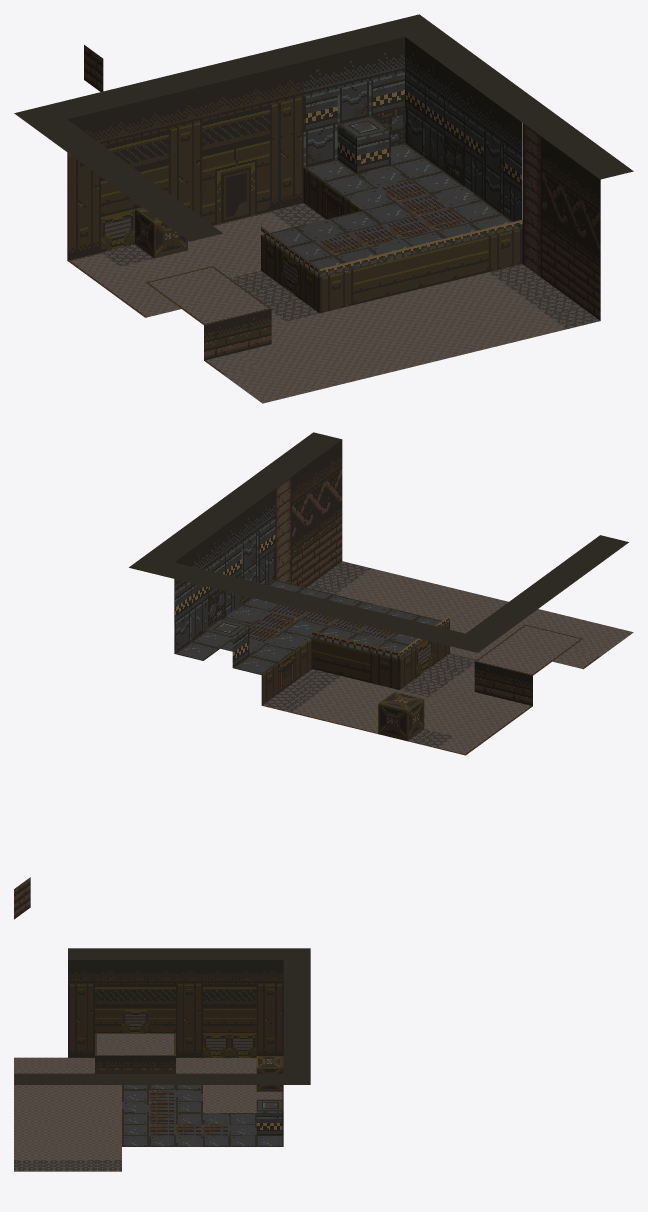
3 views of the same model, one above another, from view 1: azimuth 30°, elevation 25°; view 2: azimuth 150°, elevation 25°; view 3: azimuth 270°, elevation 25° (orthographic). The views are drawn at different scales.
Visible parts, largest first — view 1: default; view 2: default; view 3: default.
Part boxes in pixels (x1=…): default: x1=14, y1=14, x2=633, y2=403; default: x1=14, y1=432, x2=633, y2=919; default: x1=14, y1=948, x2=310, y2=1171.
Size of the model in its own units: 12 by 6 by 23.01.
Materials: 1 (1 with a texture image).
